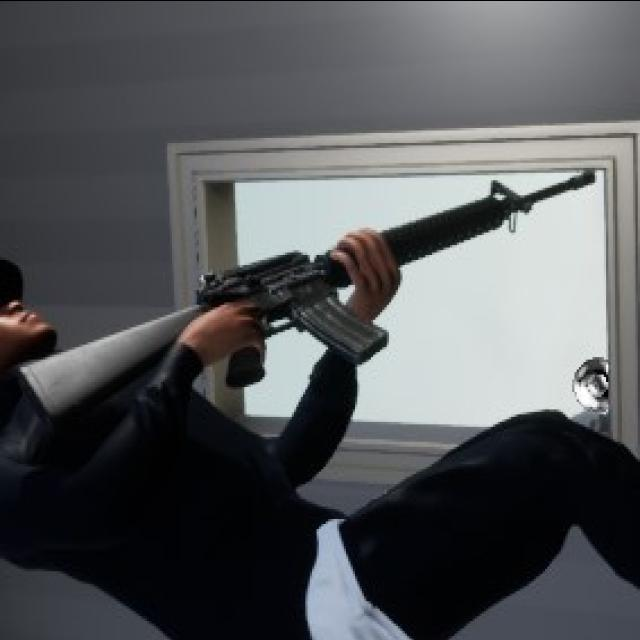rifle: (16, 166, 596, 428)
